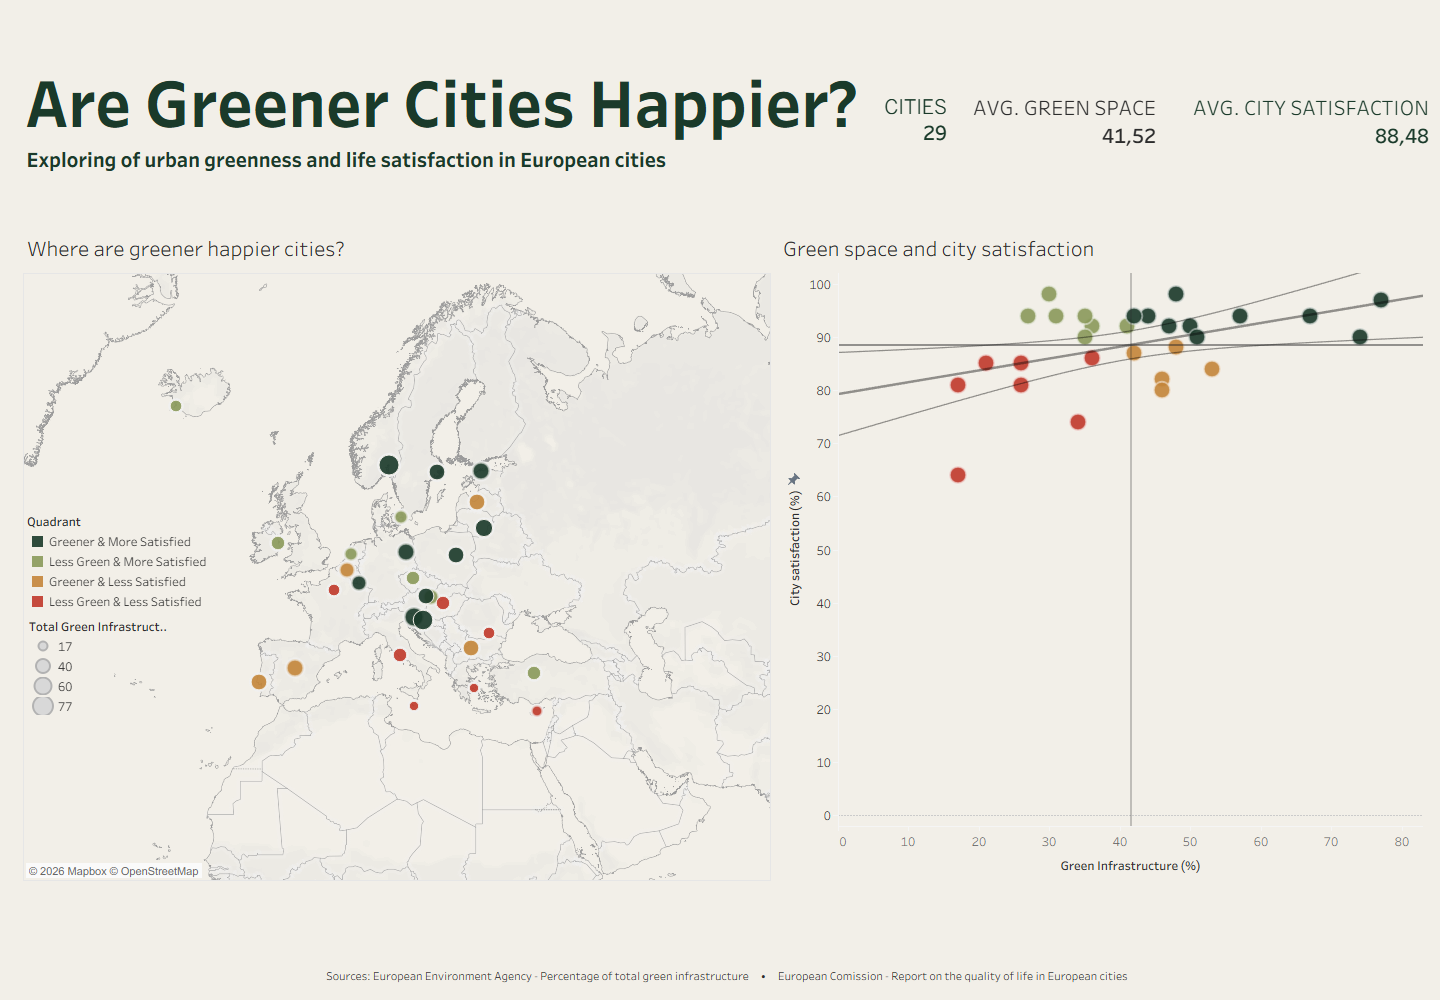

What the dashboard file says about the page in this screenshot:
{"tool":"tableau","page":{"name":"Are Greener Cities Happier? (2)","canvas":[1440,1000],"ordinal":0},"visuals":[{"type":"text","box":[8,8,852,186]},{"type":"worksheet","title":"KPI Cities","mark":"Automatic","box":[860,73,89,121]},{"type":"worksheet","title":"KPI Average Total Green Infrastructure","mark":"Automatic","box":[949,73,213,121]},{"type":"worksheet","title":"KPI Average City Satisfaction","mark":"Automatic","box":[1162,73,270,121]},{"type":"text","box":[17,124,666,70]},{"type":"worksheet","title":"Where are greener happier cities?","mark":"Circle","box":[8,226,760,659]},{"type":"worksheet","title":"Green space and city satisfaction","mark":"Circle","rows":["city_satisfaction"],"cols":["total_green_infrastructure"],"box":[768,226,664,659]},{"type":"legend","title":"Where are greener happier cities?","param":"[federated.0vmv1s61k4cgq71538hwd0nbnscx].[none:quadrant:nk]","box":[20,513,198,98]},{"type":"legend","title":"Where are greener happier cities?","param":"[federated.0vmv1s61k4cgq71538hwd0nbnscx].[sum:total_green_infrastructure:qk]","box":[22,618,140,105]},{"type":"text","box":[8,960,1424,32]}]}

Visuals, with their boxes in screenshot pixels (x1, y1, x2, y2), scaled from the page's 1440x1000 canvas onto the 1440x1000 screenshot:
text: (8, 8, 860, 194)
"KPI Cities" worksheet: (860, 73, 949, 194)
"KPI Average Total Green Infrastructure" worksheet: (949, 73, 1162, 194)
"KPI Average City Satisfaction" worksheet: (1162, 73, 1432, 194)
text: (17, 124, 683, 194)
"Where are greener happier cities?" worksheet (Circle marks): (8, 226, 768, 885)
"Green space and city satisfaction" worksheet (Circle marks): (768, 226, 1432, 885)
"Where are greener happier cities?" legend: (20, 513, 218, 611)
"Where are greener happier cities?" legend: (22, 618, 162, 723)
text: (8, 960, 1432, 992)
